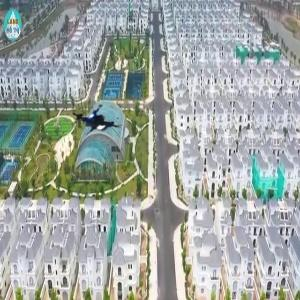drone: (73, 92, 128, 147)
